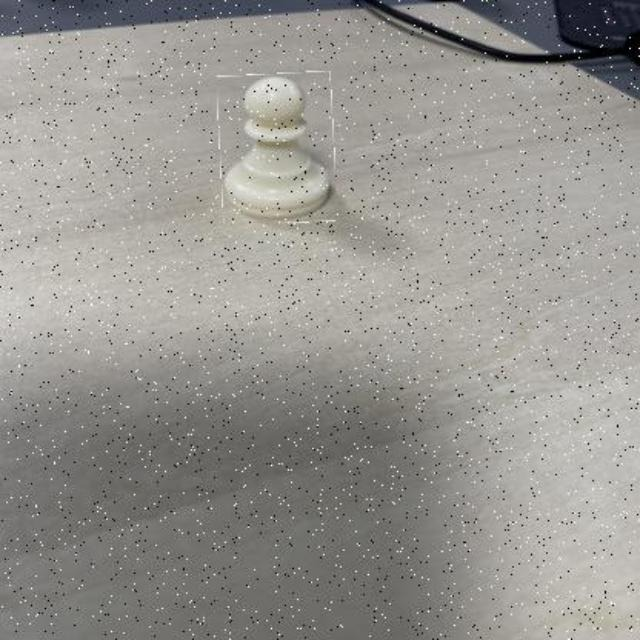white-pawn: (219, 73, 335, 223)
